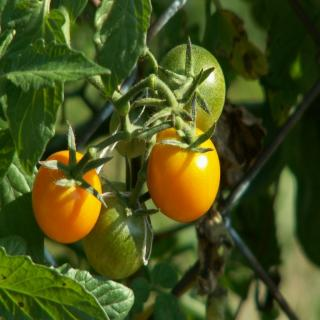Tomato: (31, 149, 102, 245), (84, 180, 152, 280), (147, 132, 220, 220), (156, 43, 225, 132)
